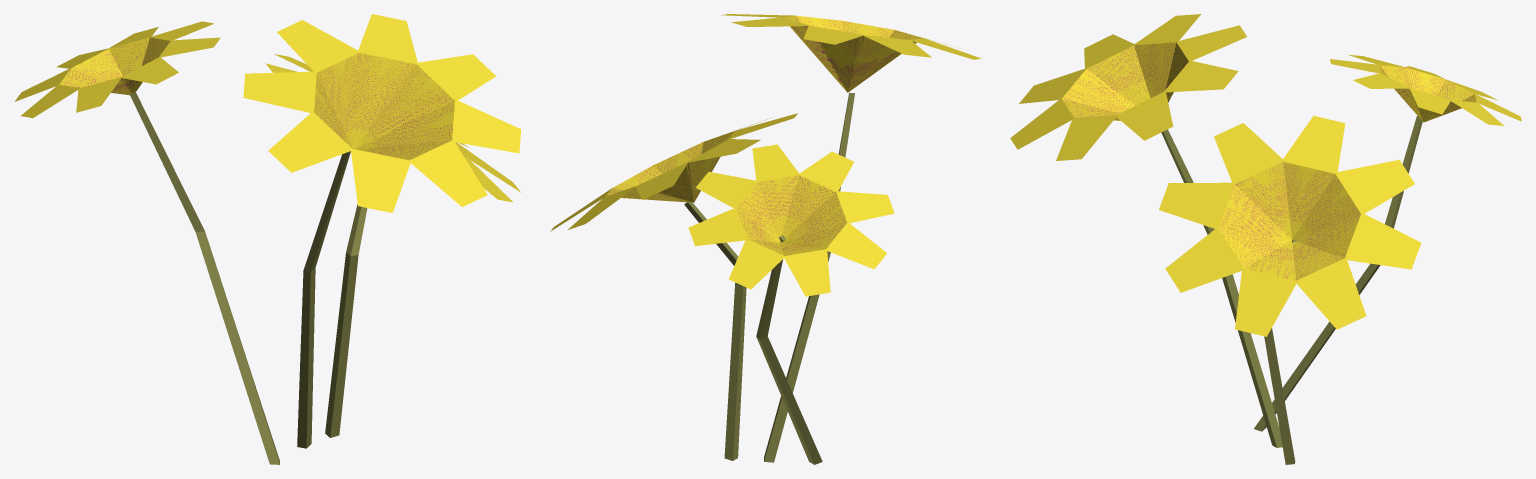
The model's file is greek_flower_2.fbx.
3 views of the same model, side by side, from view 1: azimuth 30°, elevation 25°; view 2: azimuth 150°, elevation 25°; view 3: azimuth 270°, elevation 25° (orthographic). The views are drawn at different scales.
Parts seen in each view (by area): view 1: Icosphere.002; view 2: Icosphere.002; view 3: Icosphere.002.
Boxes of the visible parts, x1=… form: Icosphere.002: x1=14, y1=14, x2=521, y2=464; Icosphere.002: x1=550, y1=14, x2=981, y2=464; Icosphere.002: x1=1010, y1=14, x2=1521, y2=464.
Bounding box in the file's own units: 40.66 × 43.18 × 49.71.
